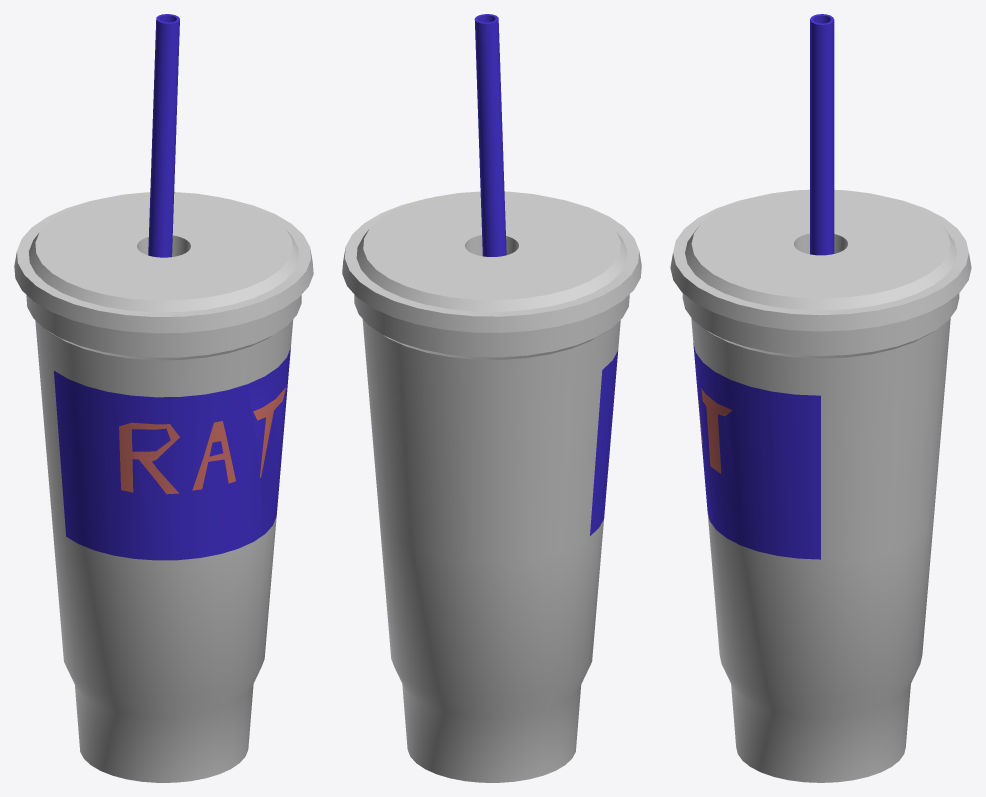
File: Sodie.fbx
3 views of the same model, side by side, from view 1: azimuth 30°, elevation 25°; view 2: azimuth 150°, elevation 25°; view 3: azimuth 270°, elevation 25° (orthographic).
Visible parts, largest first — view 1: Circle; view 2: Circle; view 3: Circle.
Boxes of the visible parts, box(x1,y1,x2,y2) form: Circle: box(14, 14, 313, 782); Circle: box(342, 14, 641, 782); Circle: box(670, 14, 971, 782).
Bounding box in the file's own units: 634 × 1695 × 634.
